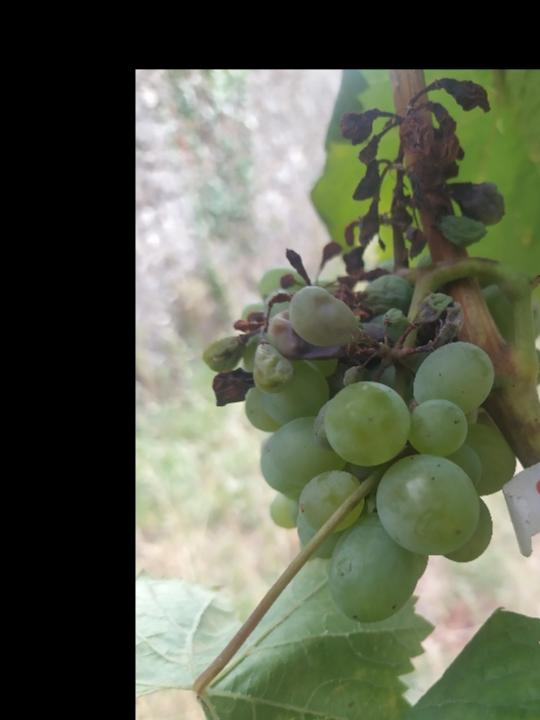grape: (200, 72, 508, 629)
